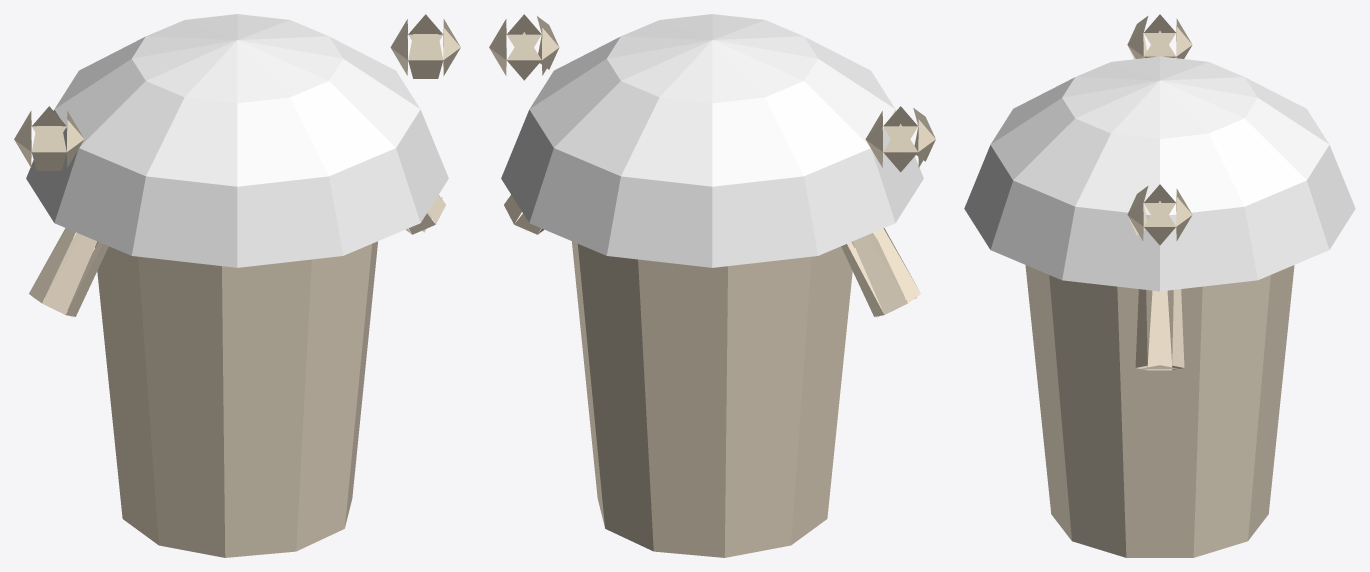
The model's file is spectator.glb.
3 views of the same model, side by side, from view 1: azimuth 30°, elevation 25°; view 2: azimuth 150°, elevation 25°; view 3: azimuth 270°, elevation 25° (orthographic). The views are drawn at different scales.
Visible parts, largest first — view 1: Spectator; view 2: Spectator; view 3: Spectator.
Boxes of the visible parts, x1=… form: Spectator: x1=14, y1=14, x2=460, y2=557; Spectator: x1=489, y1=14, x2=935, y2=557; Spectator: x1=964, y1=14, x2=1355, y2=557.
Bounding box in the file's own units: 0.8439 × 0.88 × 0.72.
